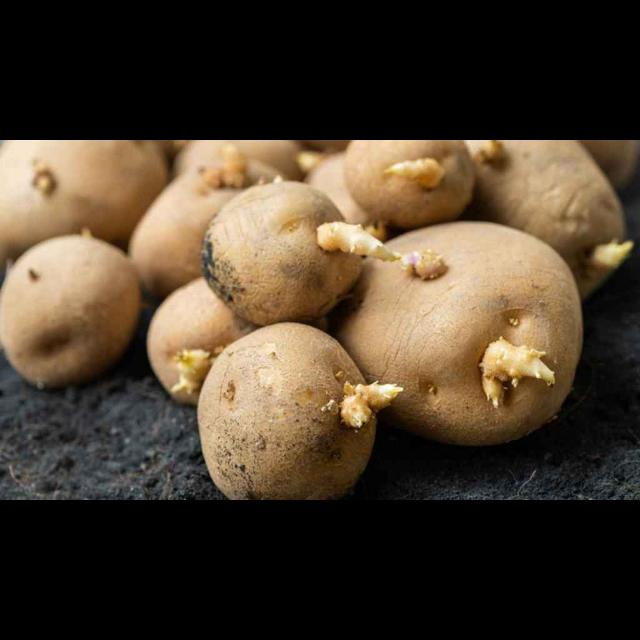Sprouted potato: (334, 218, 588, 446), (190, 318, 384, 500), (195, 174, 369, 330), (2, 234, 152, 396), (470, 140, 626, 294), (117, 153, 291, 280), (344, 140, 496, 234), (143, 276, 250, 400)
